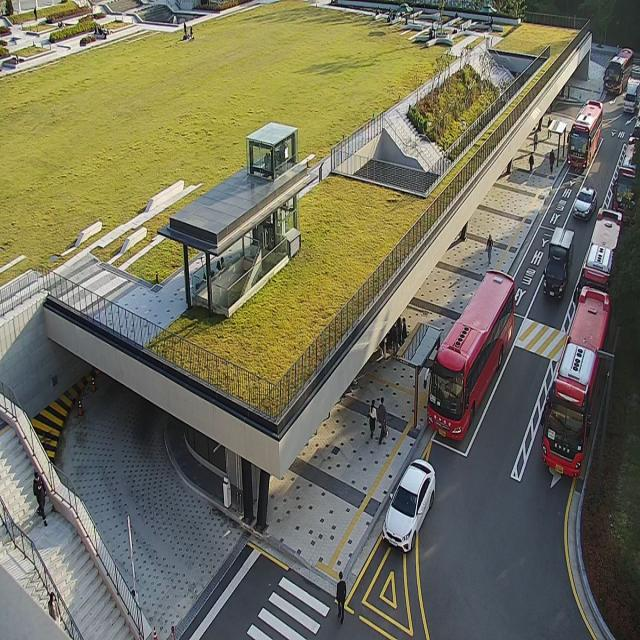queue: (415, 333, 441, 431)
